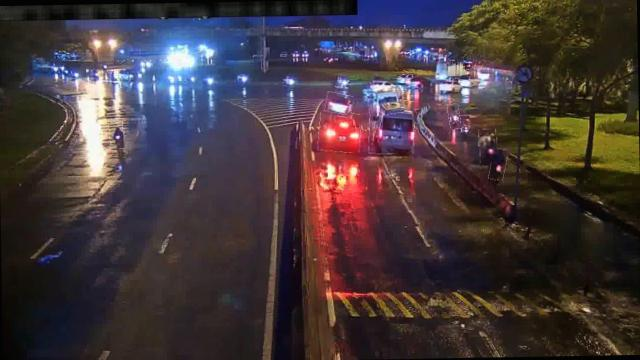Bike: (479, 129, 498, 163), (488, 148, 506, 180), (109, 122, 123, 148), (458, 115, 472, 140), (448, 103, 462, 128)
Bus: (369, 99, 415, 154), (367, 86, 404, 116)
Car: (318, 110, 362, 152), (324, 92, 352, 114)
